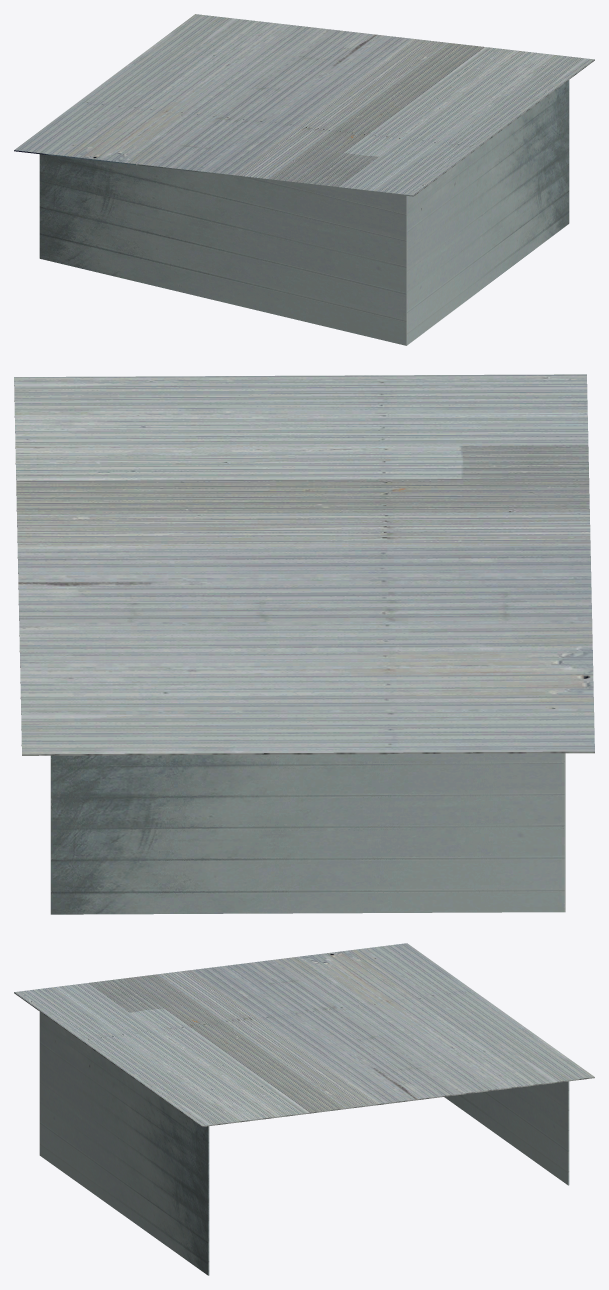
Rendered from Tomer_Kibui_shed.gltf.
3 views of the same model, one above another, from view 1: azimuth 30°, elevation 25°; view 2: azimuth 150°, elevation 25°; view 3: azimuth 270°, elevation 25° (orthographic). The views are drawn at different scales.
Visible parts, largest first — view 1: node1, node3; view 2: node3, node1; view 3: node3, node1.
Boxes of the visible parts, box(x1,y1,x2,y2) form: node1: box(14, 59, 594, 345); node3: box(14, 14, 594, 195); node3: box(14, 374, 594, 754); node1: box(14, 385, 594, 914); node3: box(14, 943, 594, 1125); node1: box(14, 992, 594, 1275).
Size of the model in its own units: 14.72 by 4.74 by 15.55.
